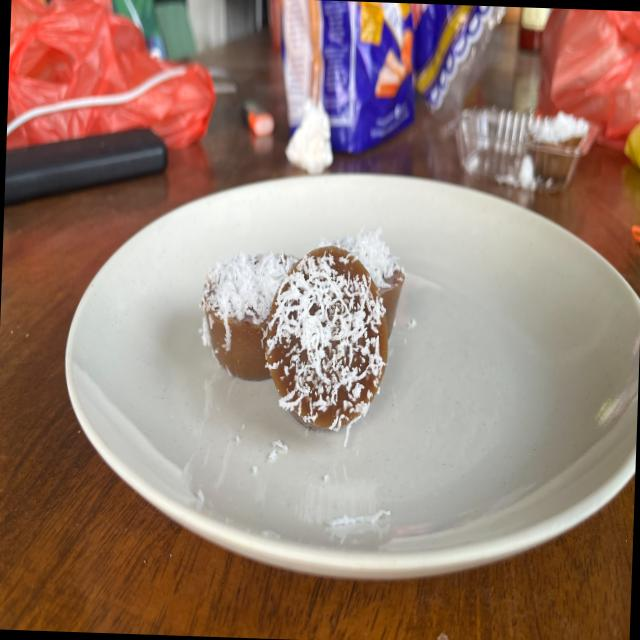Kuih lompang: (265, 245, 388, 430), (202, 252, 295, 380), (319, 226, 404, 336)
